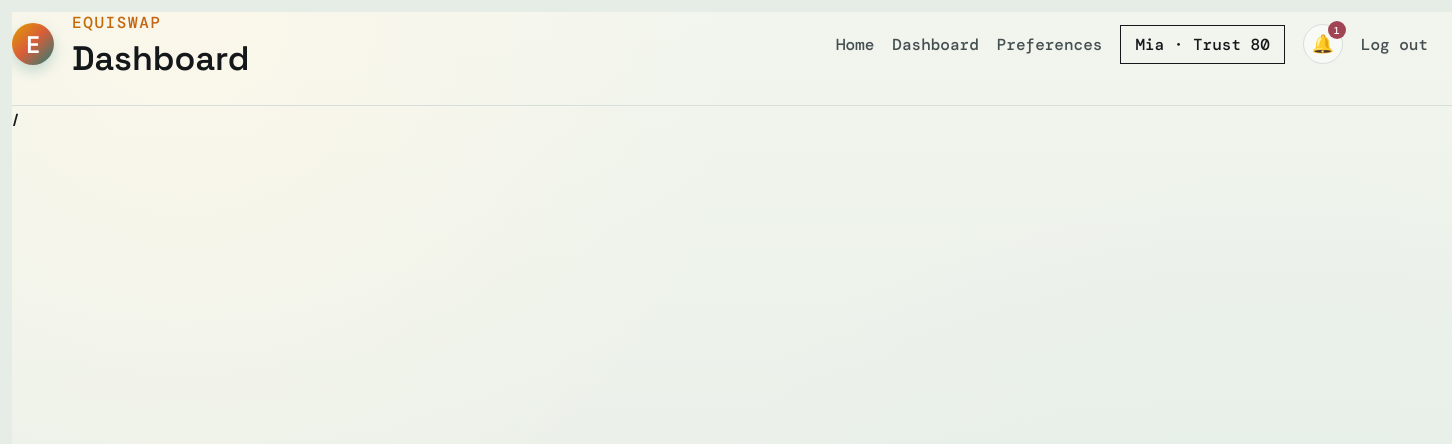
Scenario: TopNav › shows the unread count badge and opens the notification panel
The image size is (1452, 444).
Check: the text "1" is shown, box [1328,21,1346,39]
Click the button named "Notifications": (1323, 44) [1303,24,1343,64]
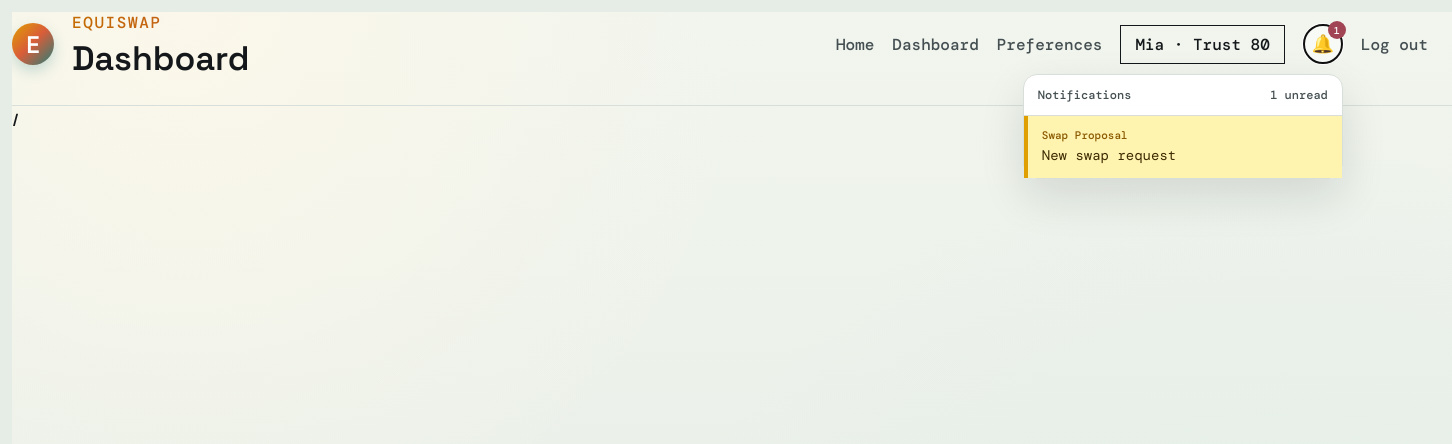
Check: the text "New swap request" is shown, box [1042,146,1176,164]
Check: the text "1 unread" is shown, box [1270,87,1328,103]
